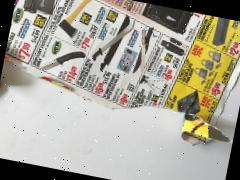paper: (0, 0, 240, 172)
